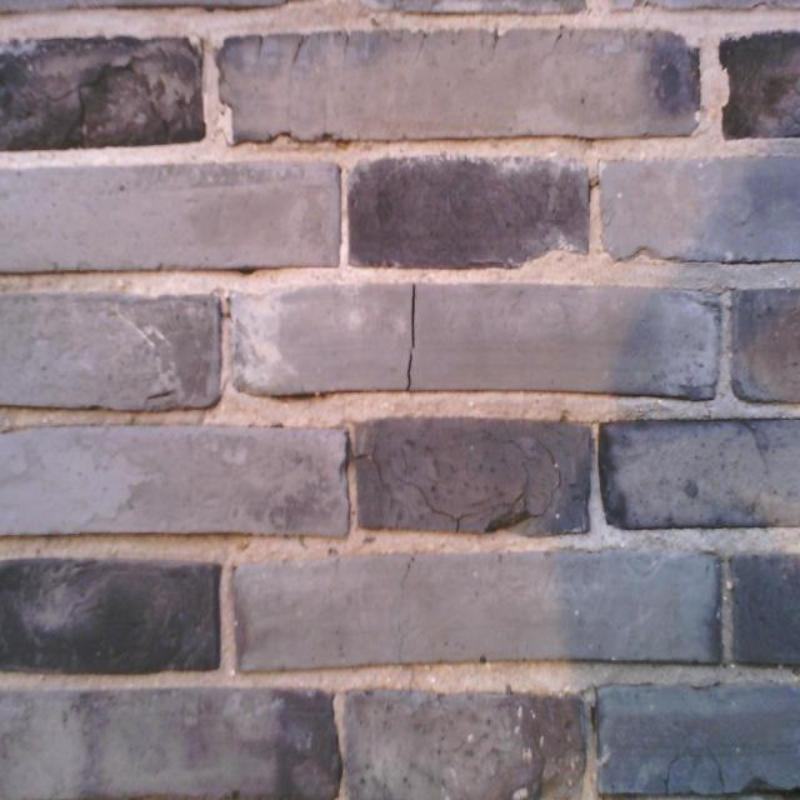pothole: (406, 351, 413, 391), (412, 284, 415, 349)
